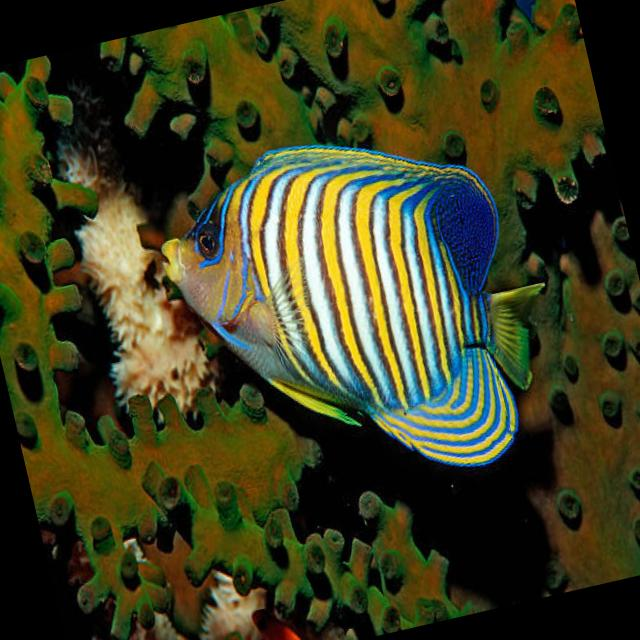AngelFish: (142, 99, 578, 528)
